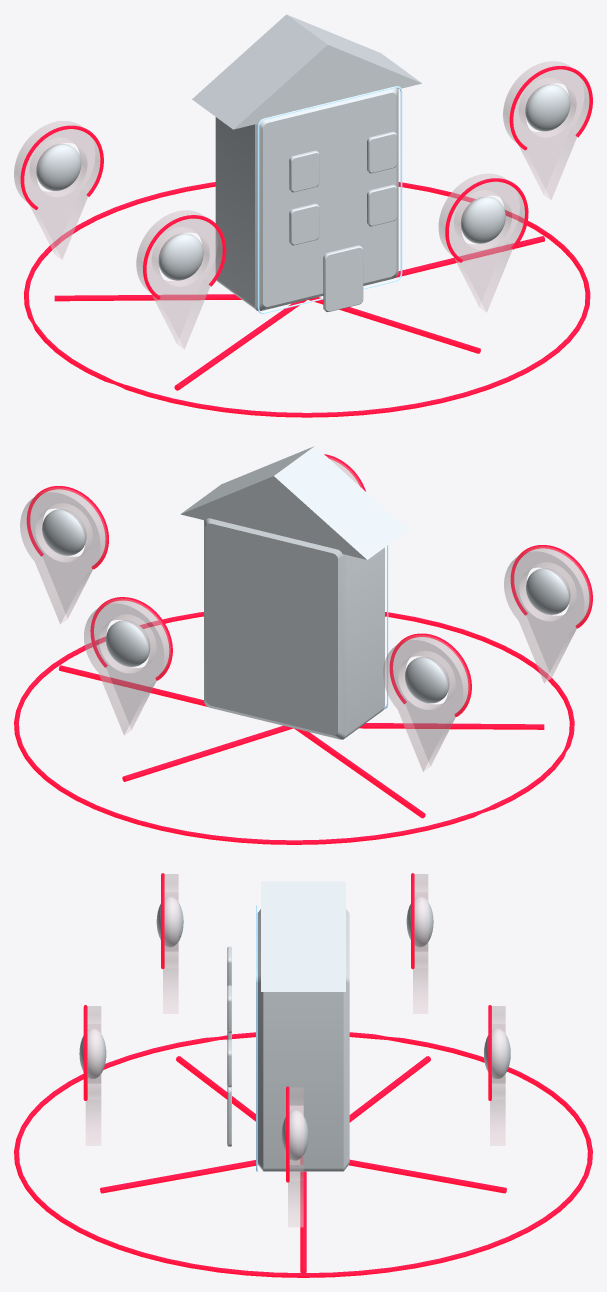
Rendered from 45-service-network.glb.
The picture shows the model from 3 angles, top to bottom: view 1: azimuth 30°, elevation 25°; view 2: azimuth 150°, elevation 25°; view 3: azimuth 270°, elevation 25°; orthographic projection. The views are drawn at different scales.
Visible parts, largest first — view 1: BC thin clear technical glass, BC subtle ruby technical glass, BC ruby signal edge, BC cool glass edge; view 2: BC thin clear technical glass, BC subtle ruby technical glass, BC ruby signal edge; view 3: BC thin clear technical glass, BC ruby signal edge, BC subtle ruby technical glass, BC cool glass edge.
Part boxes in pixels (x1,y1,x2,y2): BC thin clear technical glass: [36, 14, 570, 311]; BC subtle ruby technical glass: [14, 61, 589, 349]; BC ruby signal edge: [20, 66, 592, 417]; BC cool glass edge: [257, 86, 402, 313]; BC thin clear technical glass: [42, 446, 570, 739]; BC subtle ruby technical glass: [20, 456, 590, 771]; BC ruby signal edge: [14, 454, 592, 844]; BC thin clear technical glass: [79, 881, 510, 1171]; BC ruby signal edge: [14, 873, 592, 1277]; BC subtle ruby technical glass: [85, 874, 505, 1227]; BC cool glass edge: [256, 905, 257, 1171].
Bounding box in the file's own units: 2.32 × 1.14 × 2.18.
